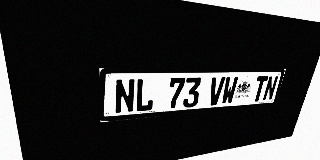3: (182, 77, 202, 108)
7: (166, 78, 186, 109)
L: (135, 78, 155, 112)
N: (115, 79, 135, 114), (262, 76, 279, 101)
T: (251, 76, 268, 102)
V: (207, 77, 225, 106)
W: (220, 77, 239, 105)
